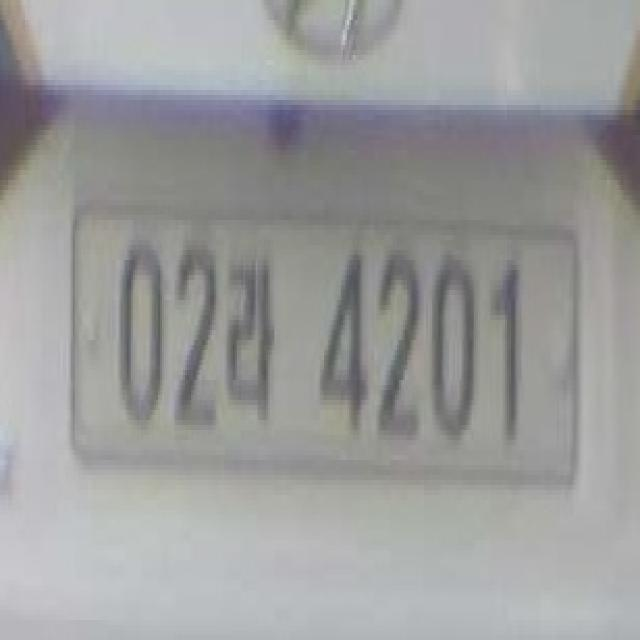plat: (70, 200, 581, 485)
